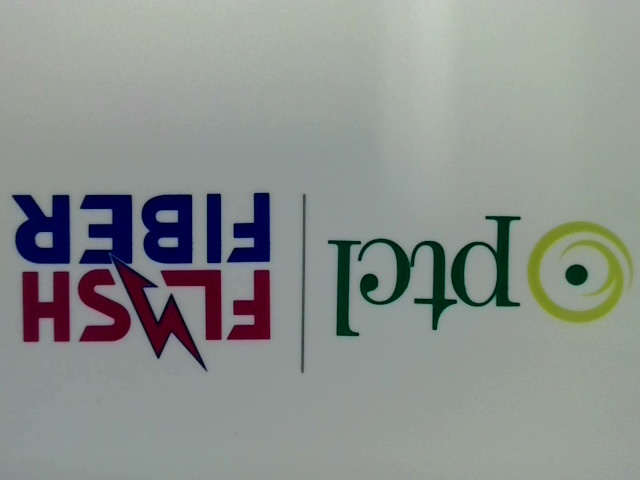BF_PTCL: (322, 195, 636, 351)
